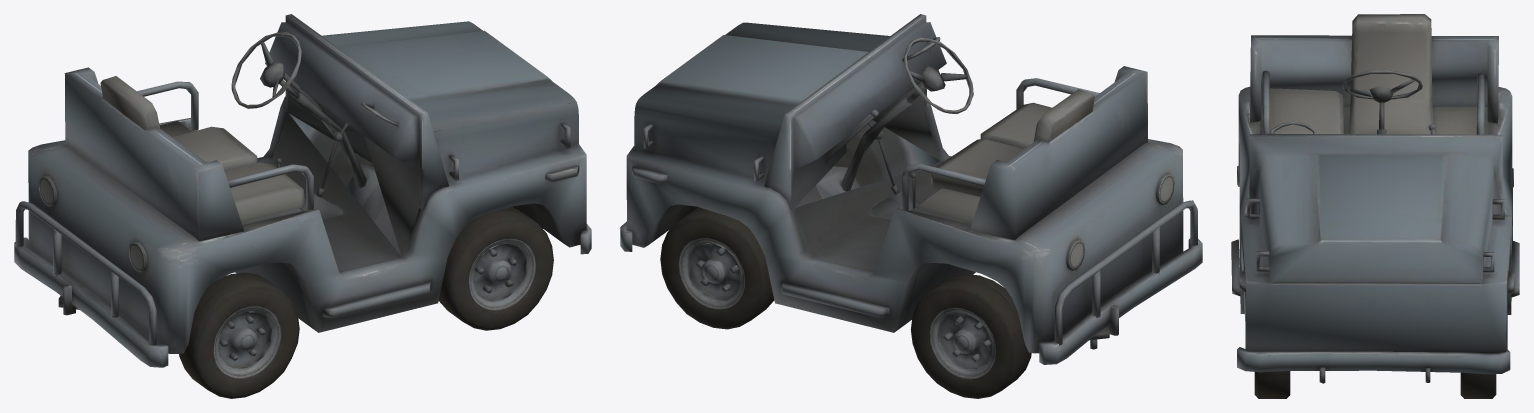
Rendered from trator_bagagem.glb.
The picture shows the model from 3 angles, left to right: view 1: azimuth 30°, elevation 25°; view 2: azimuth 150°, elevation 25°; view 3: azimuth 270°, elevation 25°; orthographic projection. The views are drawn at different scales.
Visible parts, largest first — view 1: Trator de bagagem; view 2: Trator de bagagem; view 3: Trator de bagagem.
Boxes of the visible parts, box(x1,y1,x2,y2) form: Trator de bagagem: box(14, 14, 591, 398); Trator de bagagem: box(620, 14, 1202, 398); Trator de bagagem: box(1231, 14, 1519, 398).
Size of the model in its own units: 0.998 by 0.5957 by 0.5996.
Materials: 1 (1 with a texture image).
